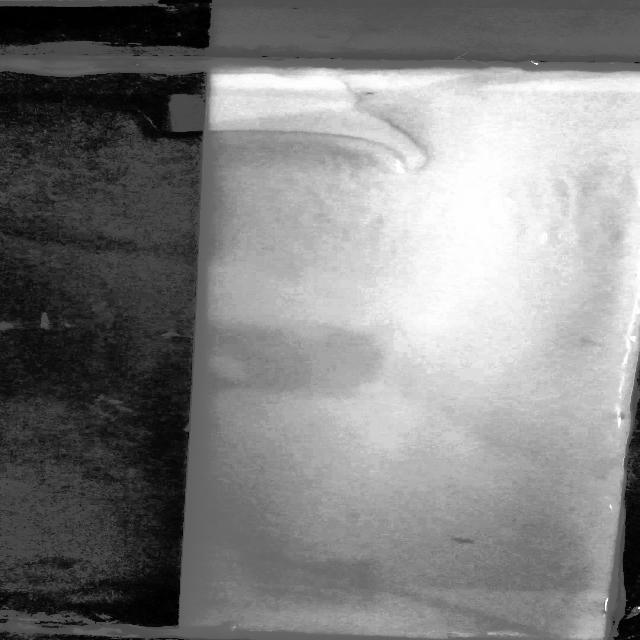shrimp: (448, 535, 485, 546)
